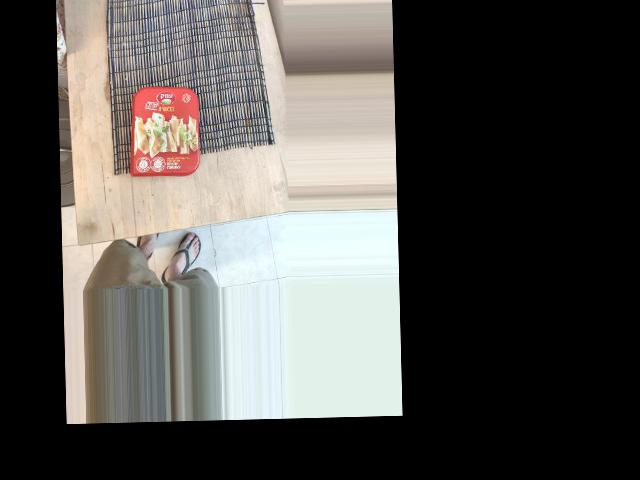cheese: (152, 65, 290, 154)
